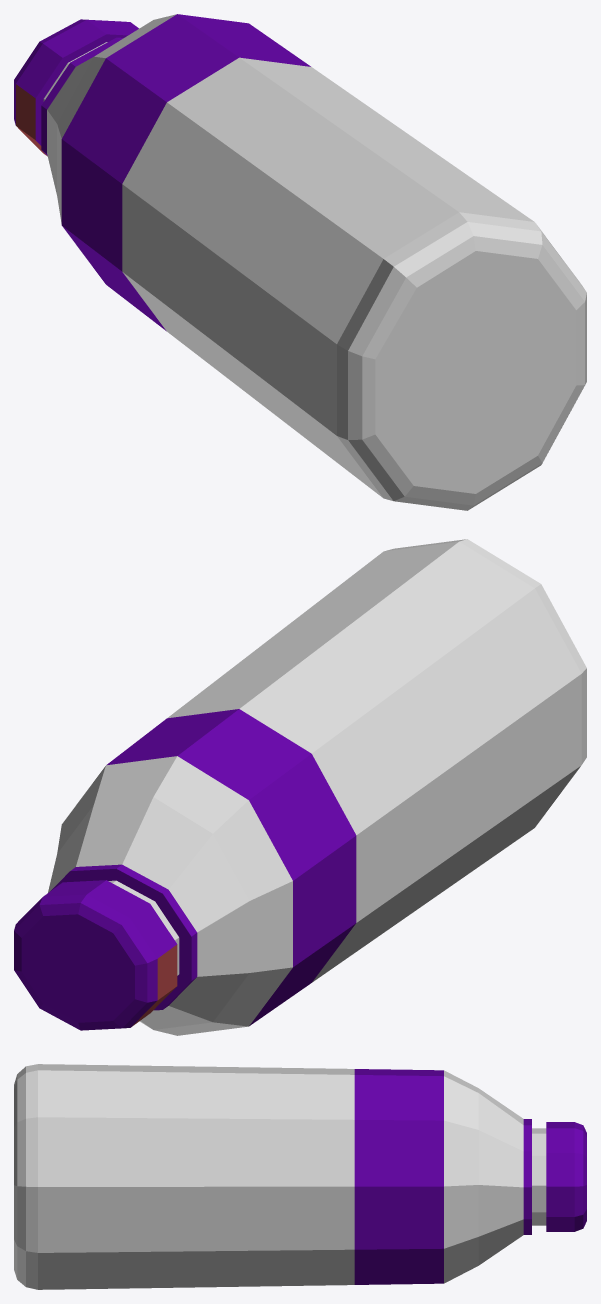
File: PlasticBottleDebuff_V2_FBX.fbx
3 views of the same model, one above another, from view 1: azimuth 30°, elevation 25°; view 2: azimuth 150°, elevation 25°; view 3: azimuth 270°, elevation 25° (orthographic). The views are drawn at different scales.
Parts seen in each view (by area): view 1: PlasticBottleDebuff_V2; view 2: PlasticBottleDebuff_V2; view 3: PlasticBottleDebuff_V2.
Boxes of the visible parts, x1=… form: PlasticBottleDebuff_V2: x1=14, y1=14, x2=586, y2=510; PlasticBottleDebuff_V2: x1=14, y1=539, x2=586, y2=1035; PlasticBottleDebuff_V2: x1=14, y1=1064, x2=586, y2=1289.
Bounding box in the file's own units: 9.1 × 10.52 × 25.61.
